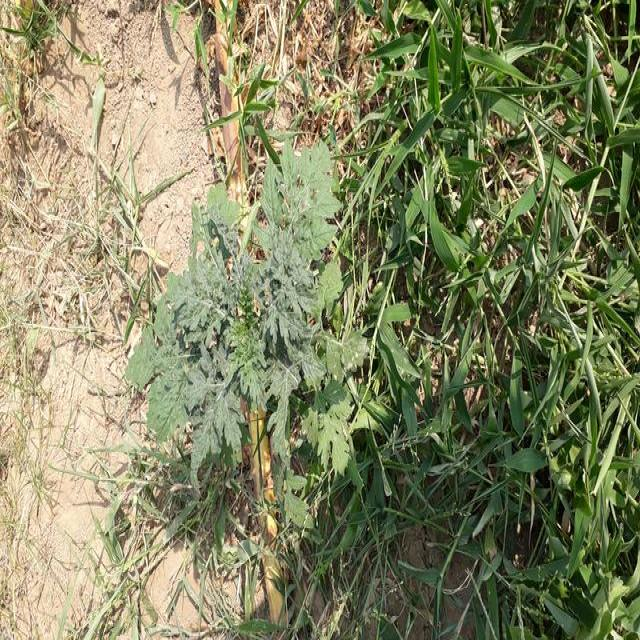weed: (363, 22, 640, 640)
